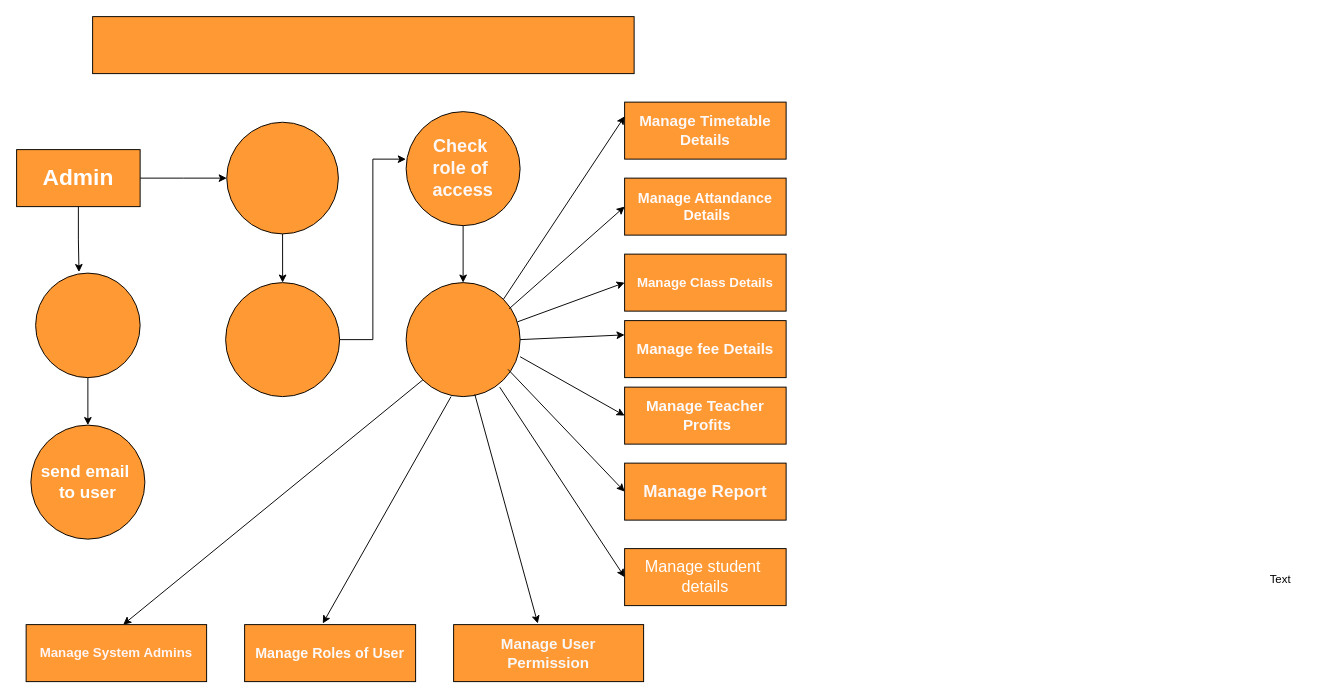
This 1321x698 diagram has some shape labels left out. The shapes that lost their labels are listed below. From the top down, each one's box as (x1, y1, x2, y2) in pixels, then its label:
(92, 16, 634, 74): student information system
(226, 121, 338, 234): Login to System
(35, 272, 140, 378): Forgot password
(225, 282, 340, 397): Check Credentials
(405, 282, 520, 397): Manage Modules
